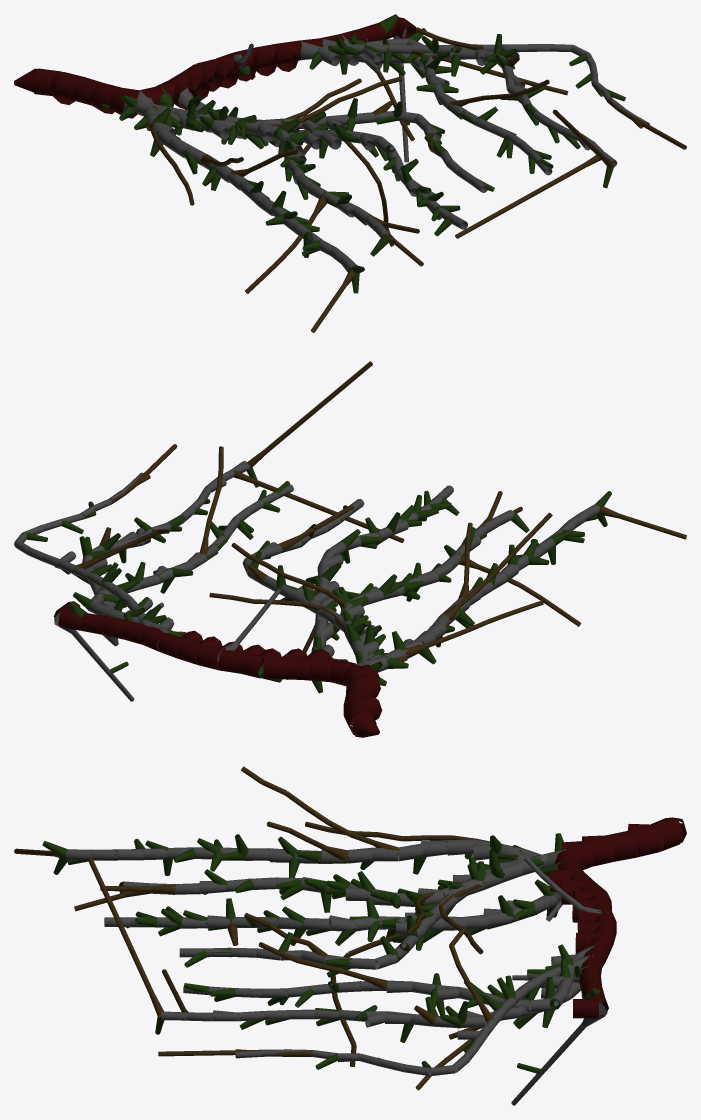
Rendered from tree_6.obj.
3 views of the same model, one above another, from view 1: azimuth 30°, elevation 25°; view 2: azimuth 150°, elevation 25°; view 3: azimuth 270°, elevation 25° (orthographic). The views are drawn at different scales.
Size of the model in its own units: 23.1 by 10.03 by 26.09.
